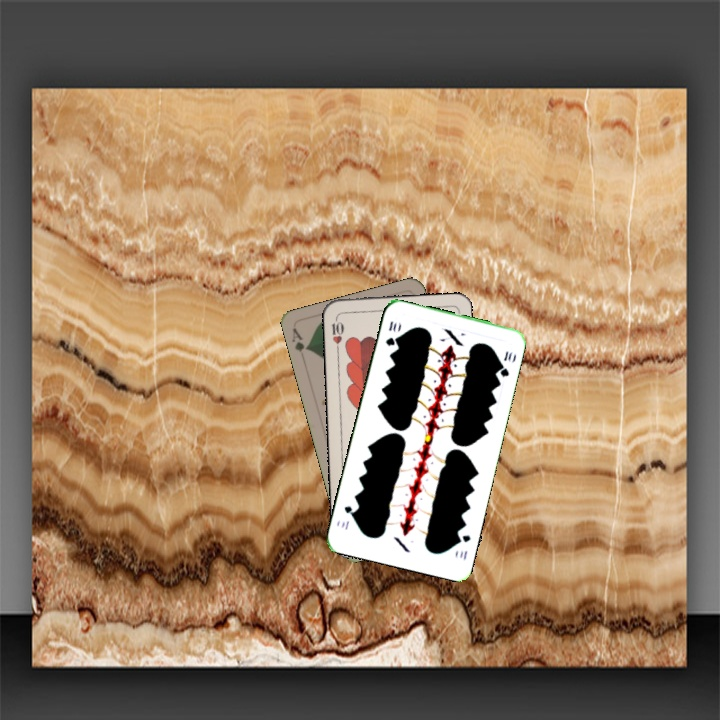G10: (453, 531, 473, 563), (381, 317, 400, 348)
GA: (288, 324, 311, 354)
H10: (328, 313, 346, 353)
